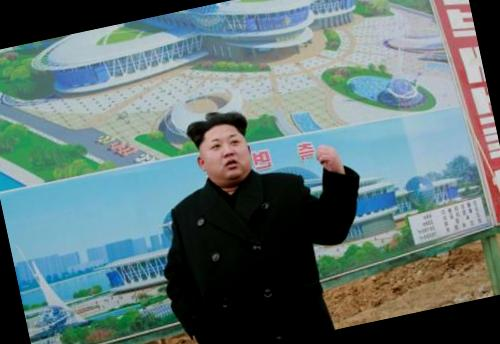no_helmet: (186, 110, 262, 195)
